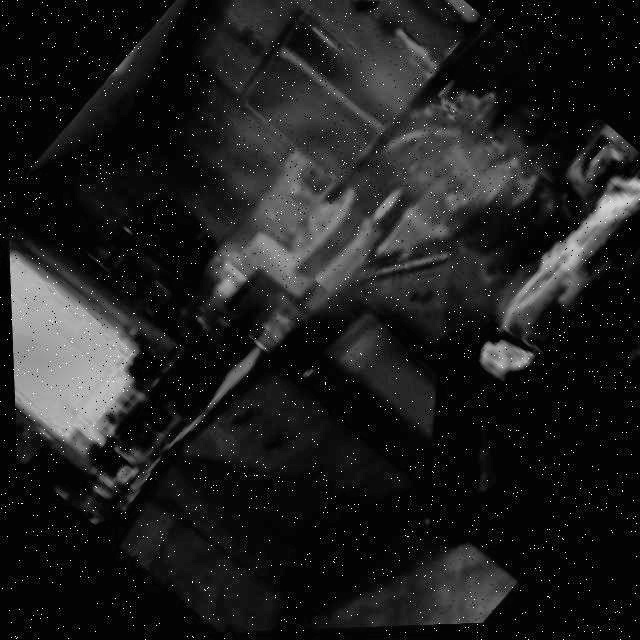Smoke: (36, 0, 640, 534)
